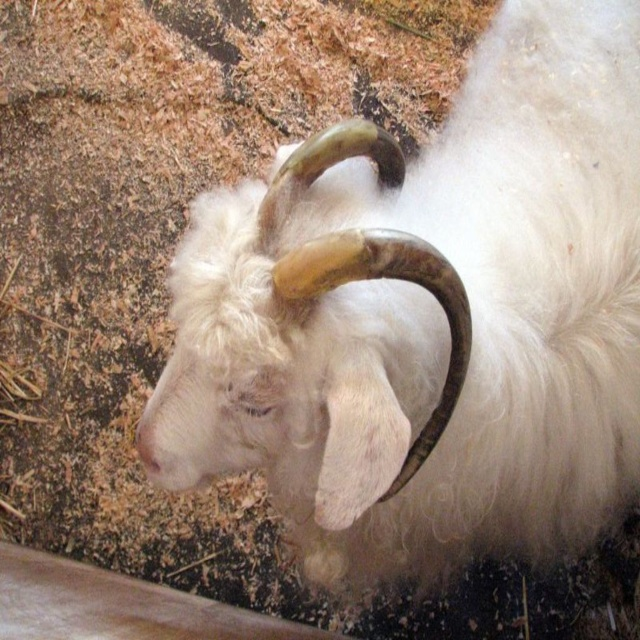Goat: (134, 2, 639, 604)
